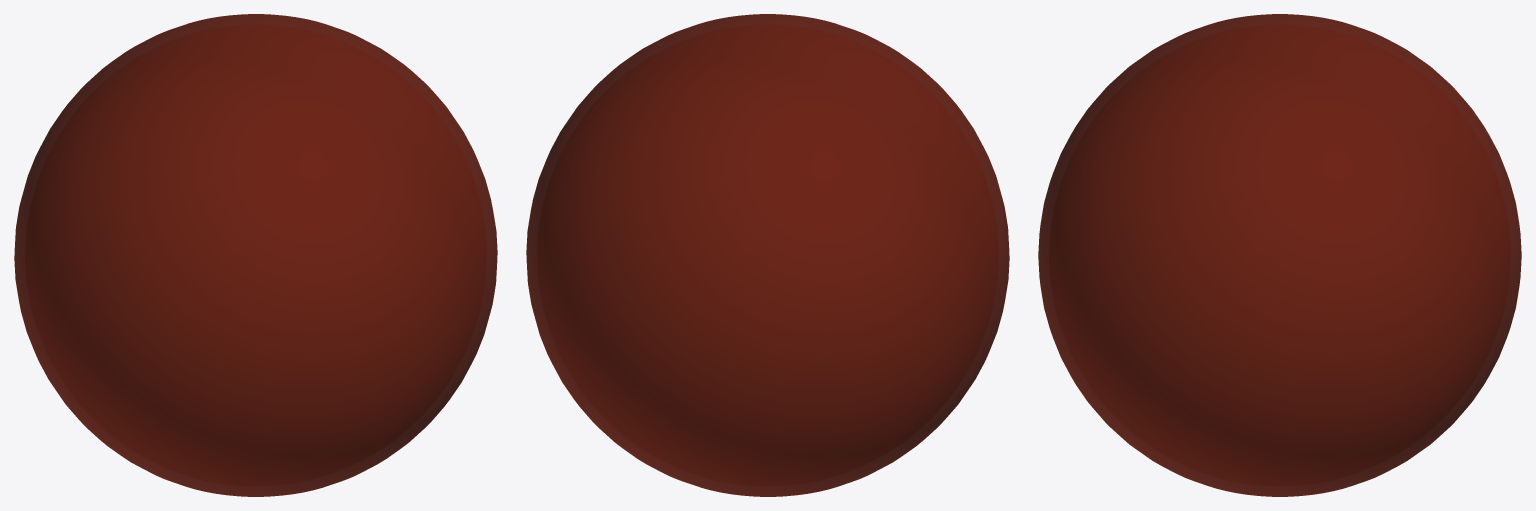
File: star.obj
The picture shows the model from 3 angles, left to right: view 1: azimuth 30°, elevation 25°; view 2: azimuth 150°, elevation 25°; view 3: azimuth 270°, elevation 25°; orthographic projection.
Parts seen in each view (by area): view 1: Sphere; view 2: Sphere; view 3: Sphere.
Boxes of the visible parts, x1,y1,x2,y2 form: Sphere: (14,14,497,496); Sphere: (526,14,1009,496); Sphere: (1038,14,1521,496).
Bounding box in the file's own units: 3.16 × 3.16 × 3.16.
